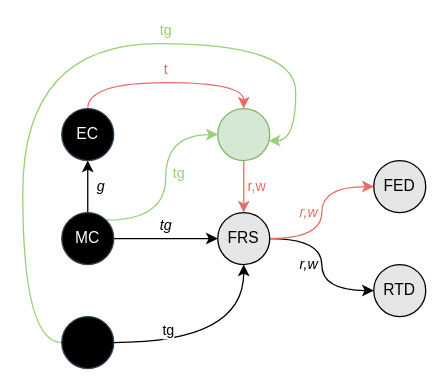
Some shapes in this 448 by 391 pixel diagram are drawn without their labels. The shapes that lost their labels are listed below. From the top down, each one's centre as x and y in pixels, then its label:
At point (243, 134): "FR".
At point (87, 342): "FDA".
